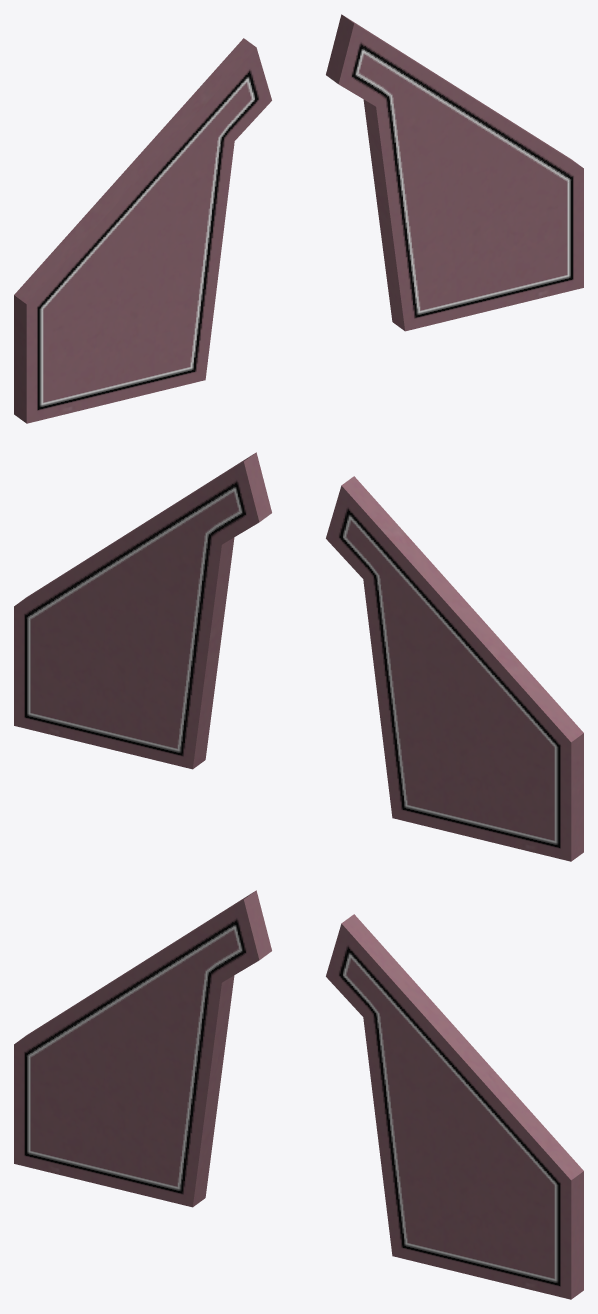
The model's file is SM_GJJ_HG_Wall02H.fbx.
The picture shows the model from 3 angles, top to bottom: view 1: azimuth 30°, elevation 25°; view 2: azimuth 150°, elevation 25°; view 3: azimuth 330°, elevation 25°; orthographic projection.
Parts seen in each view (by area): view 1: SM_GJJ_HG_Wall02H; view 2: SM_GJJ_HG_Wall02H; view 3: SM_GJJ_HG_Wall02H.
Boxes of the visible parts, <box> form: SM_GJJ_HG_Wall02H: <box>14,14,583,423</box>; SM_GJJ_HG_Wall02H: <box>14,452,583,861</box>; SM_GJJ_HG_Wall02H: <box>14,890,583,1299</box>.
Bounding box in the file's own units: 251 × 10 × 138.
1 material, 1 textured.
